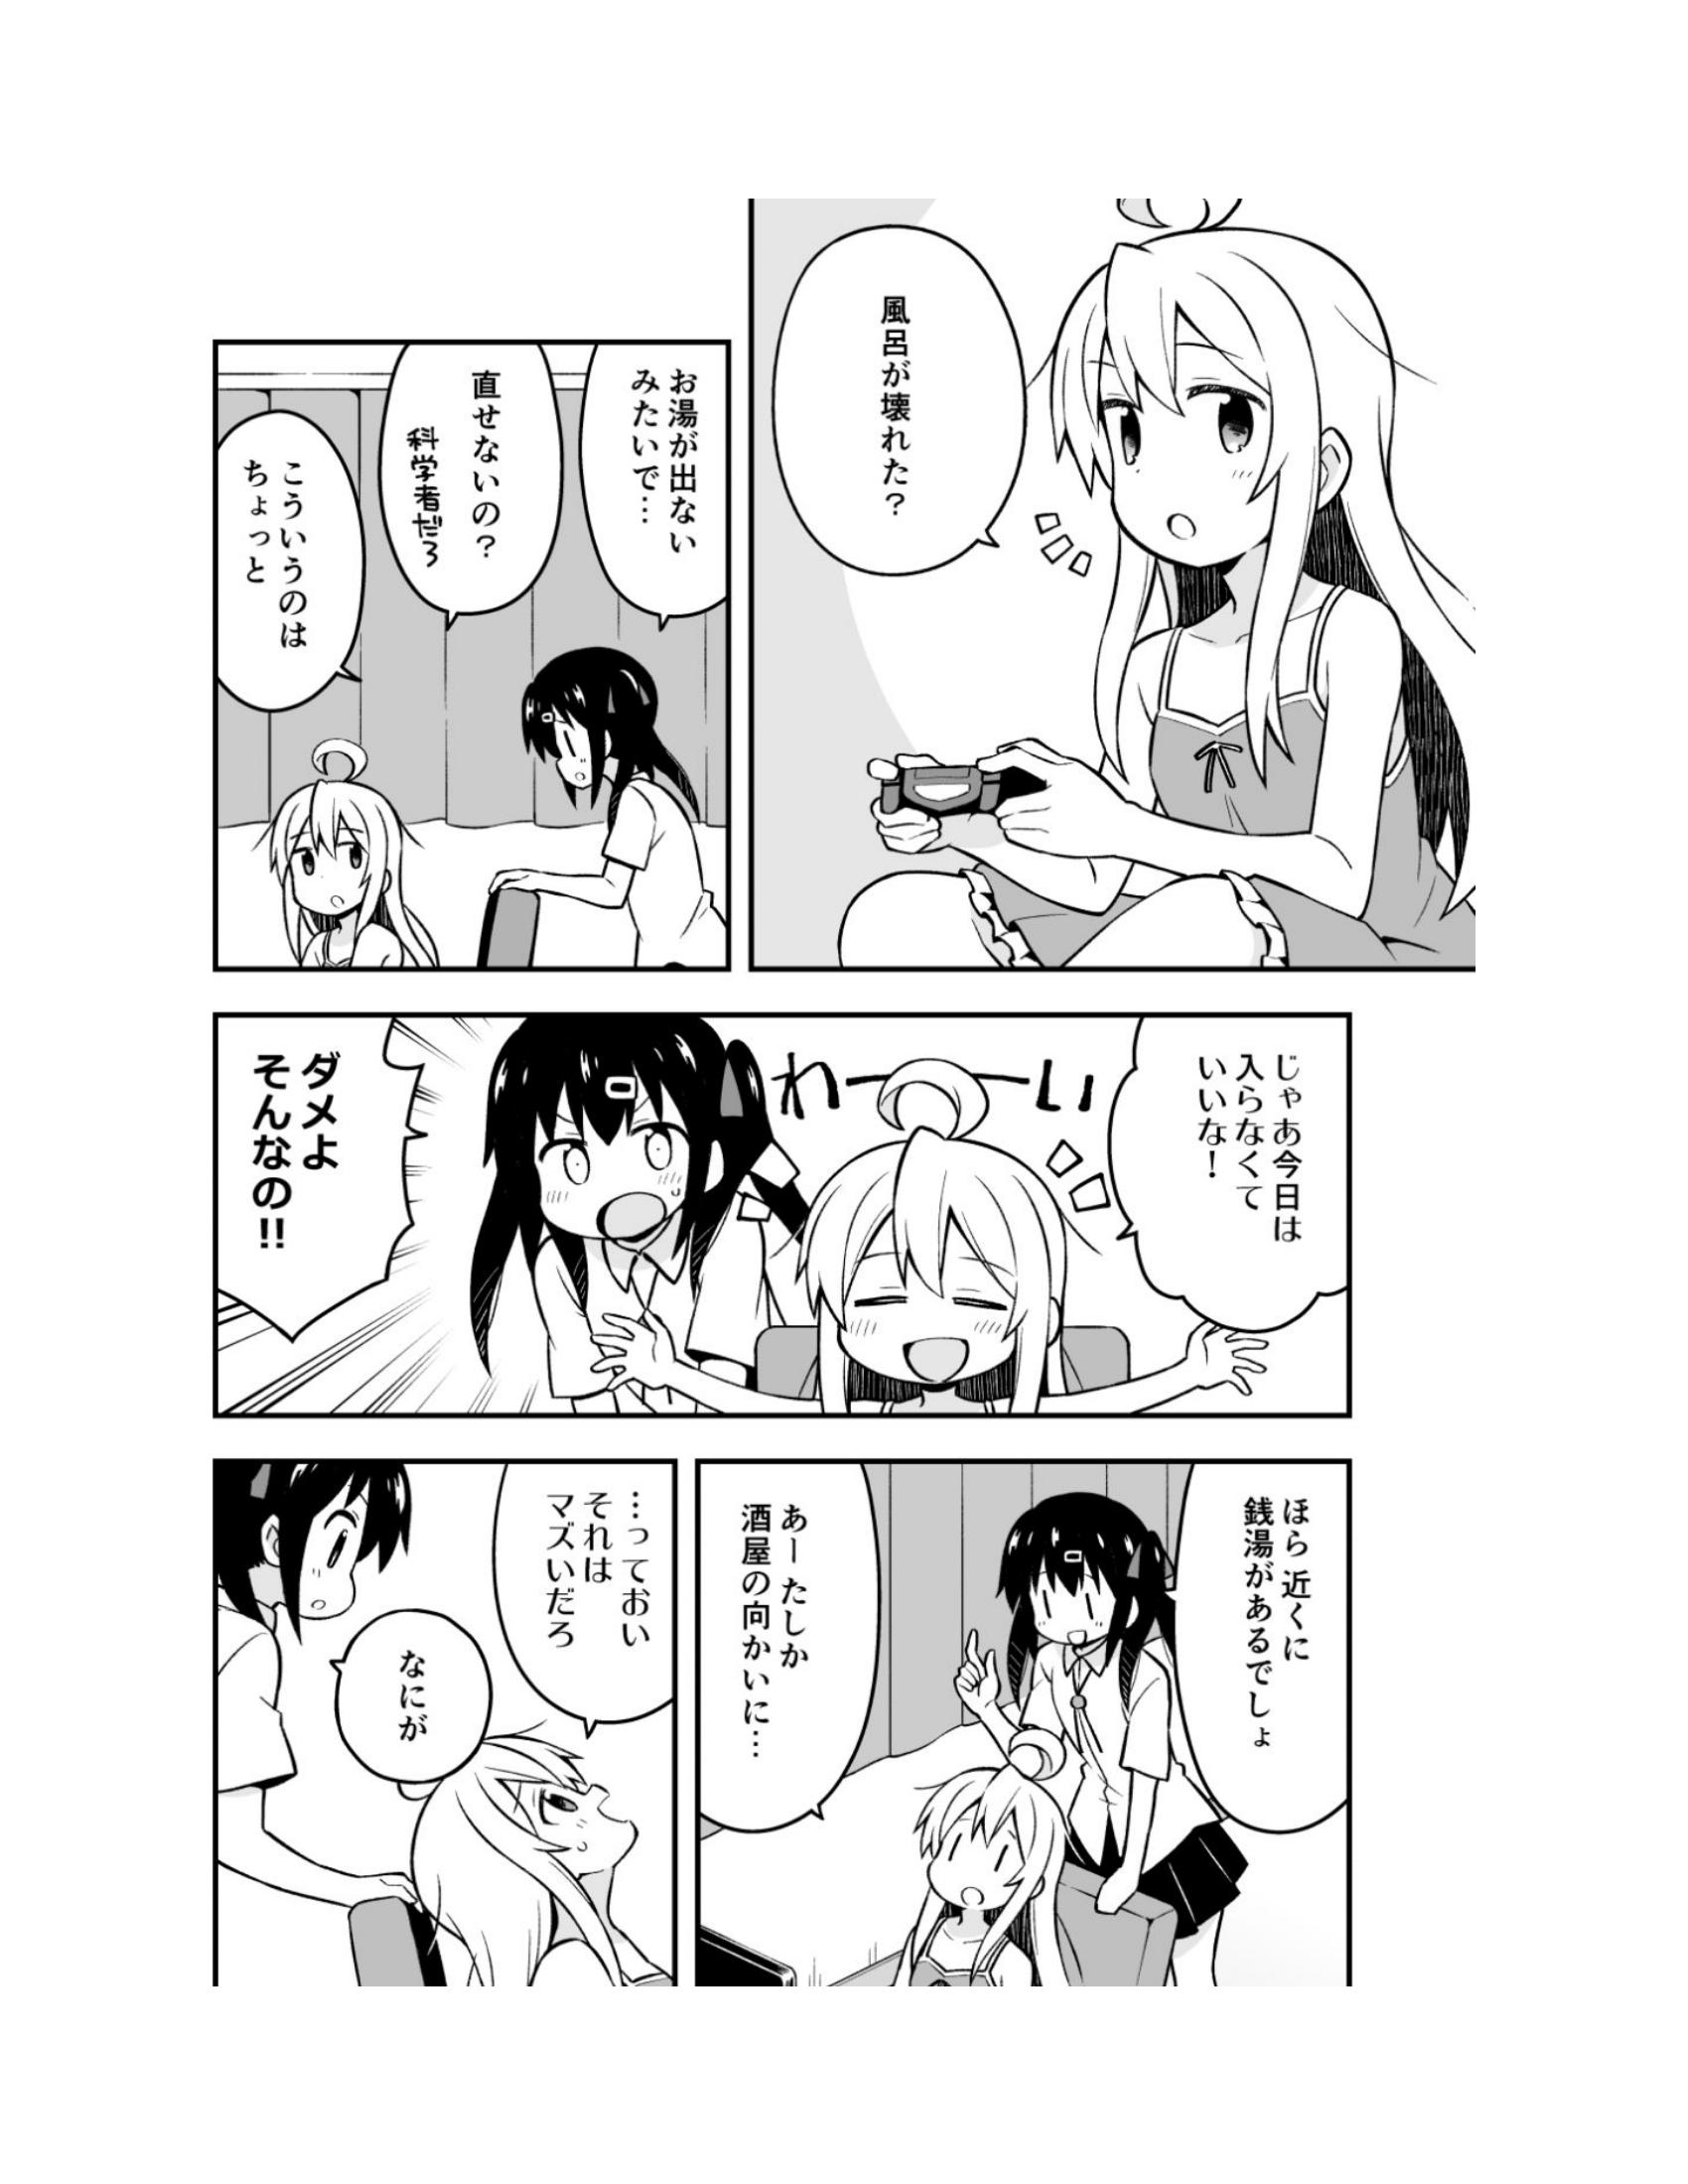a: (777, 213, 1051, 585), (1174, 1461, 1369, 1884), (144, 404, 372, 741), (362, 289, 590, 626), (1106, 1026, 1355, 1330), (702, 1461, 867, 1831), (463, 1443, 679, 1716), (574, 337, 766, 629), (335, 1599, 481, 1817)
